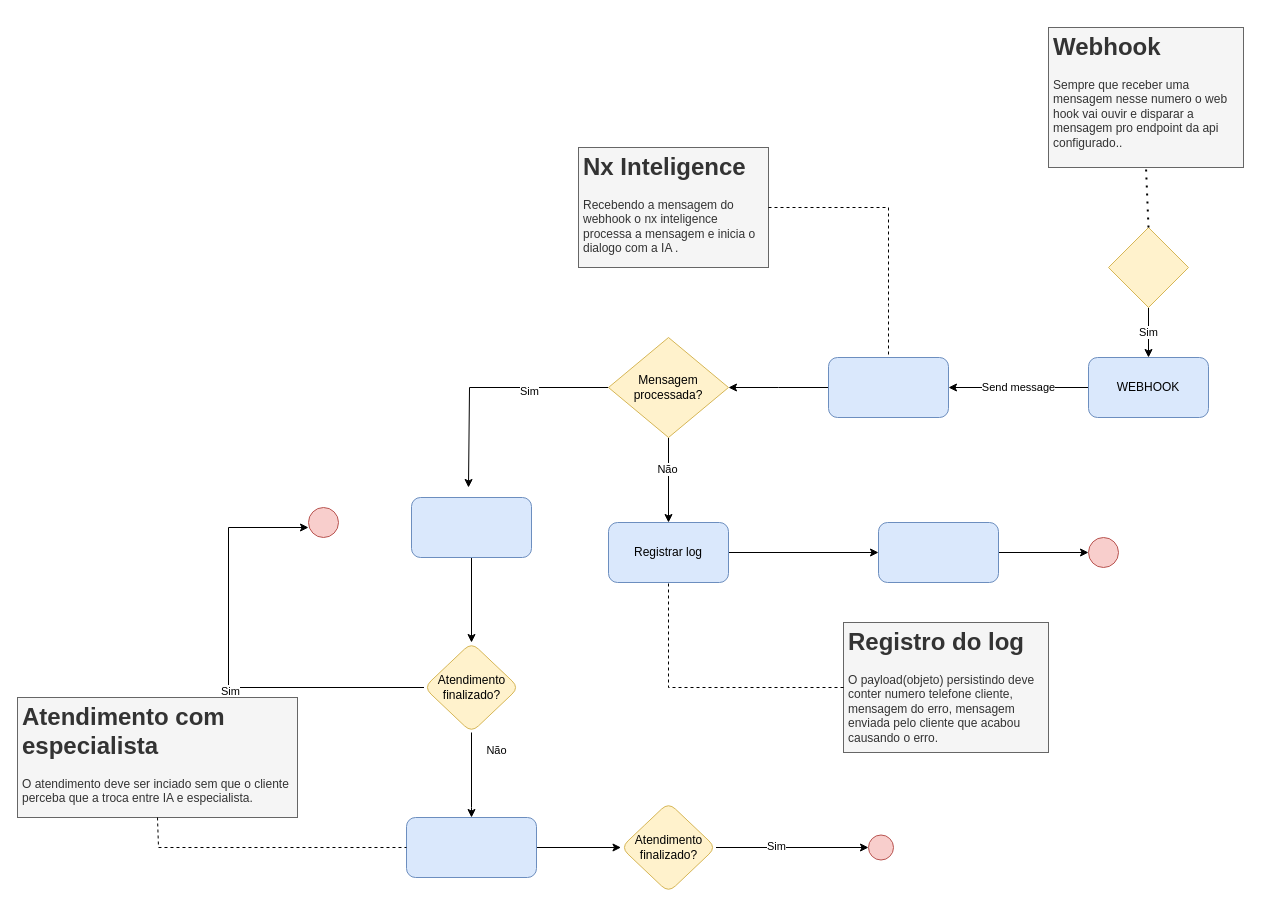
Image size: 1261x910. Some labels were removed from this diagram. The box of each missing label's shape, as (x1, y1, x2, y2) in pixels:
Especialista inicial atendimento: (406, 816, 536, 878)
IA: (410, 496, 532, 558)
Mensagem?: (1108, 226, 1188, 308)
Nx Inteligence: (828, 356, 948, 418)
Retornar mensagem tratada para o cliente: (878, 522, 998, 582)
